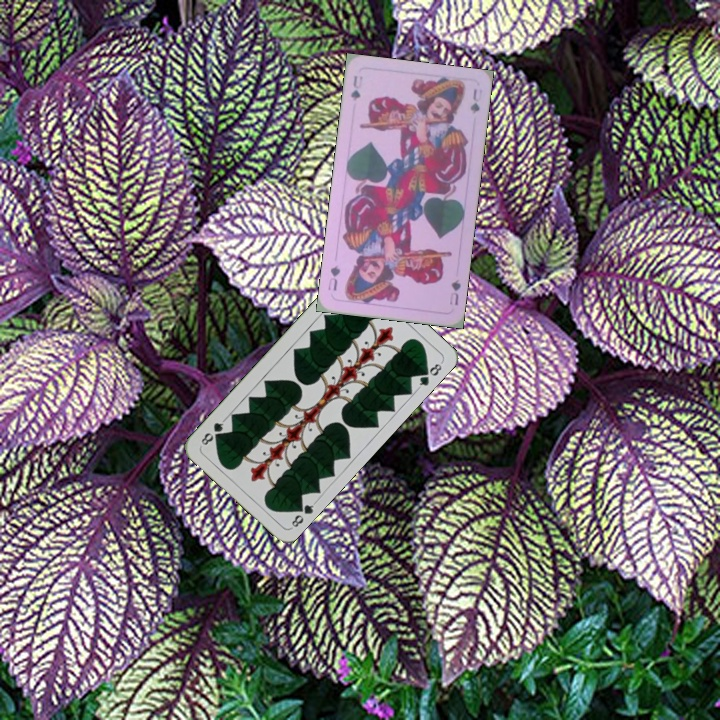G8: (287, 498, 319, 531)
GU: (346, 71, 365, 104), (445, 275, 463, 308)
